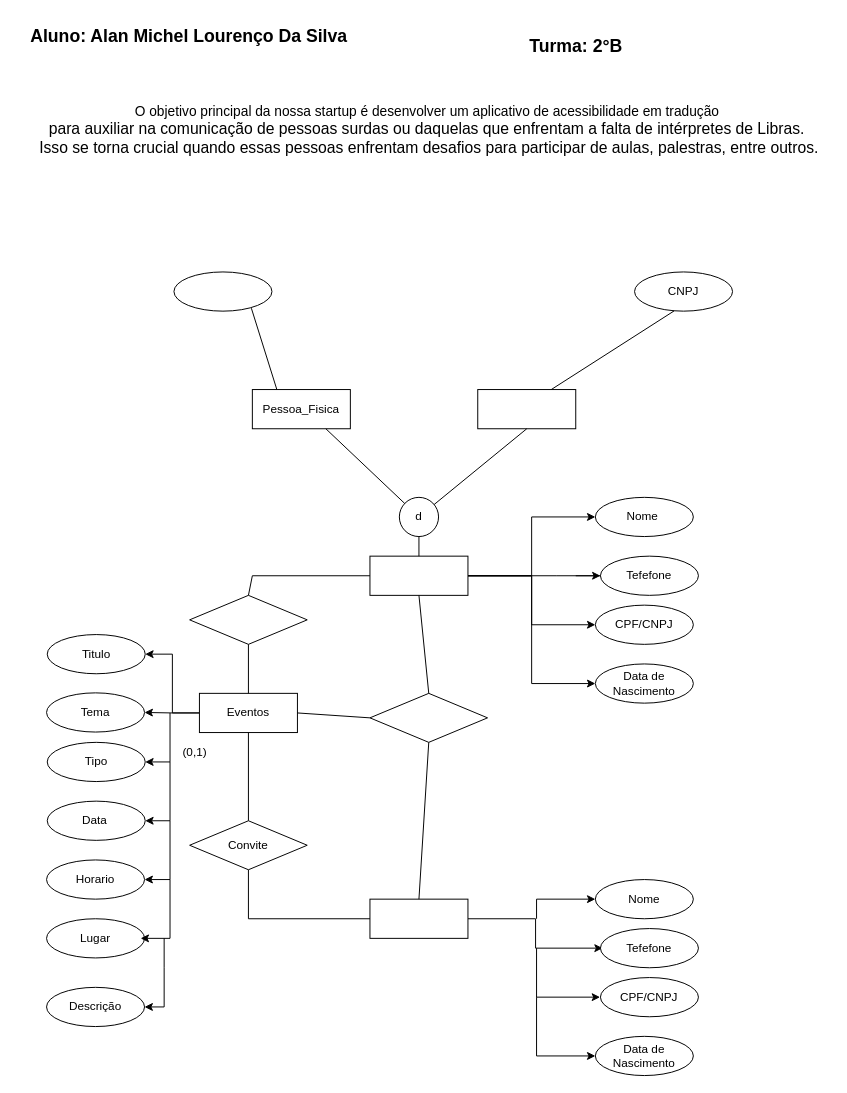
This 847x1093 diagram has some shape labels left out. Each missing label, with the centre of its shape:
"Contrato" belongs at (428,717).
"CPF" belongs at (222,291).
"Intérprete" belongs at (418,918).
"Oferta" belongs at (248,619).
"Pessoa_Juridica" belongs at (526,409).
"Usuário" belongs at (418,575).
